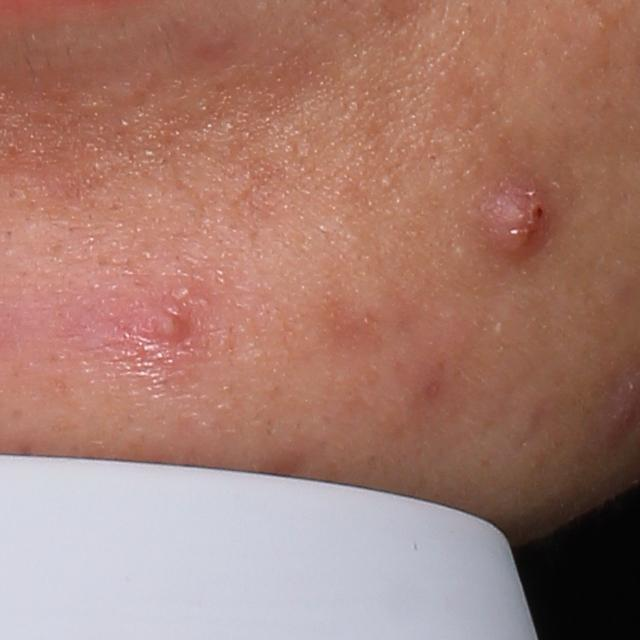comedo: (381, 173, 395, 188)
papule: (482, 190, 554, 260)
